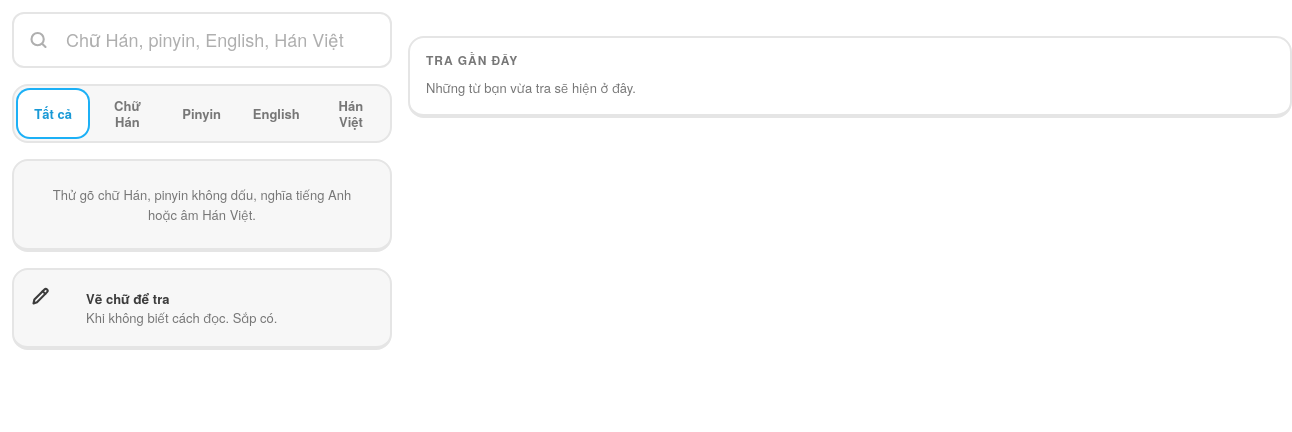
it: SearchScreen: tìm kiếm › còn trang sau: bấm Tải thêm gọi cursor và nối kết quả
Type "hao" into the search field at (202, 40), box [12,12,392,68]
Wait 250 ms
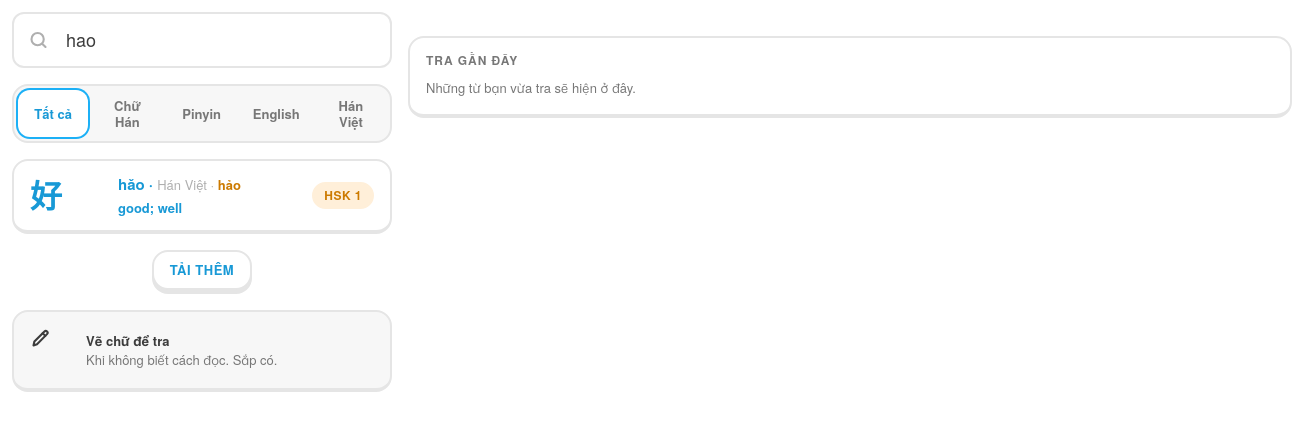
Click the button "Tải thêm" at (202, 270), box [152,250,252,290]
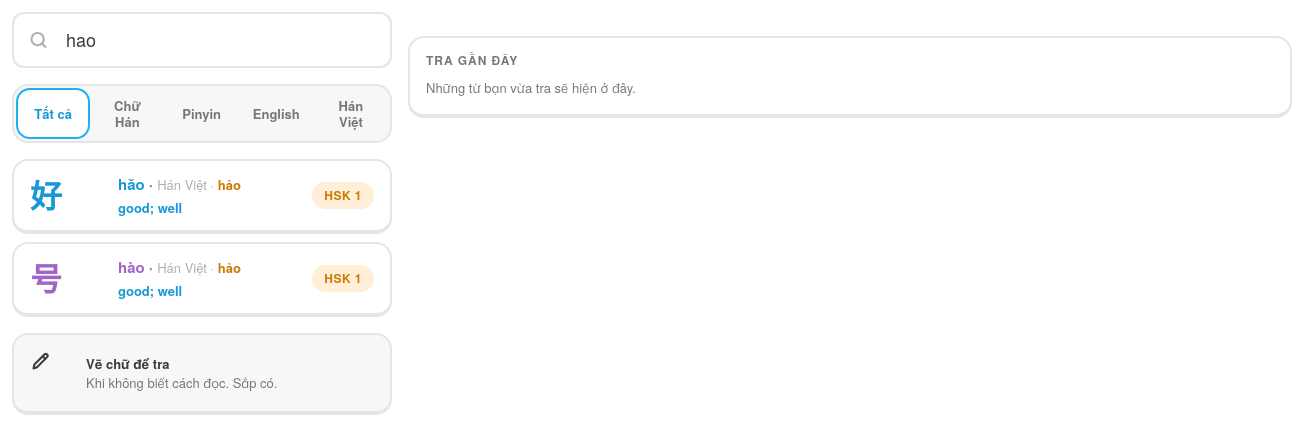
Now the button "Tải thêm" is gone
